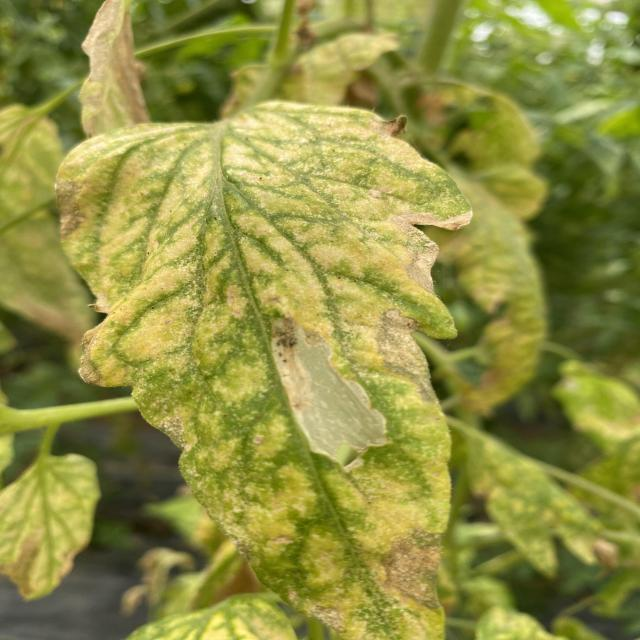Tuta absoluta: (252, 297, 395, 474)
